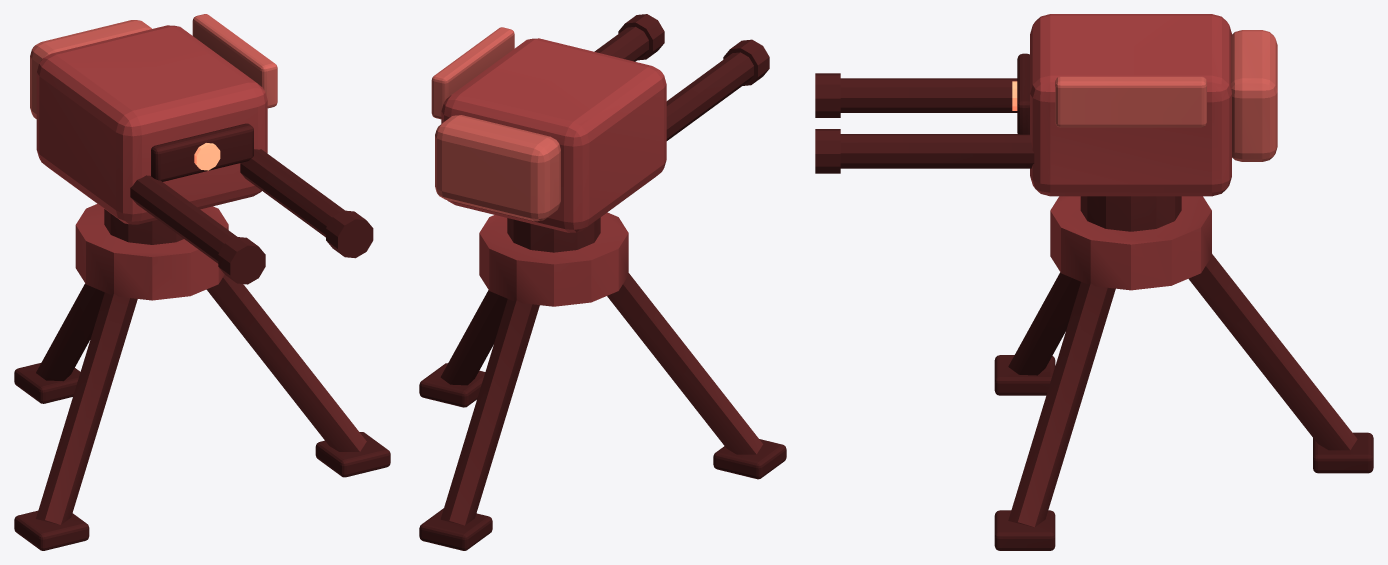
File: enemy_turret.glb
The picture shows the model from 3 angles, left to right: view 1: azimuth 30°, elevation 25°; view 2: azimuth 150°, elevation 25°; view 3: azimuth 270°, elevation 25°; orthographic projection. The views are drawn at different scales.
Parts seen in each view (by area): view 1: turret; view 2: turret; view 3: turret.
Part boxes in pixels (x1,y1,x2,y2): turret: [14, 14, 390, 550]; turret: [419, 14, 786, 550]; turret: [815, 14, 1373, 550].
Size of the model in its own units: 0.8475 by 0.93 by 1.11.
